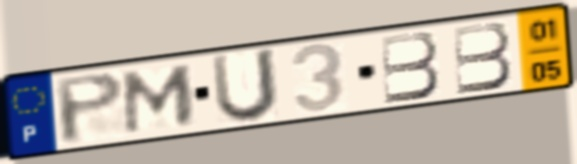3: (289, 40, 350, 116)
B: (449, 20, 516, 97), (377, 29, 444, 106)
M: (121, 62, 198, 138)
P: (51, 69, 128, 147)
U: (208, 45, 281, 126)
